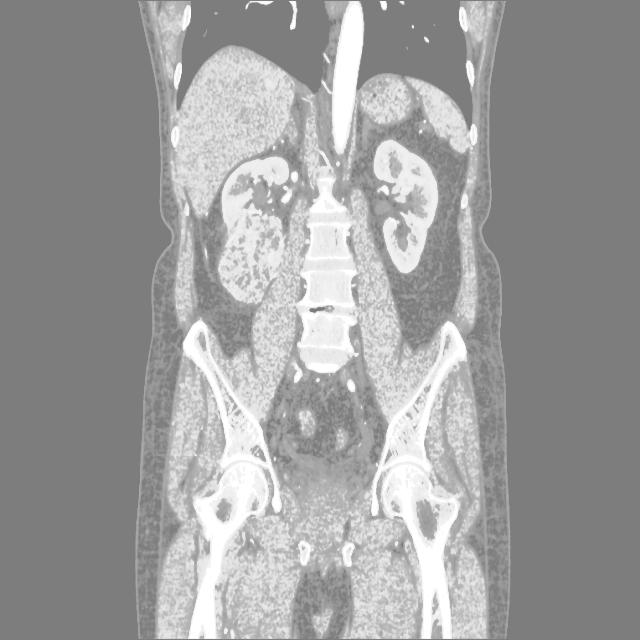TUMOR: (148, 62, 538, 401)
